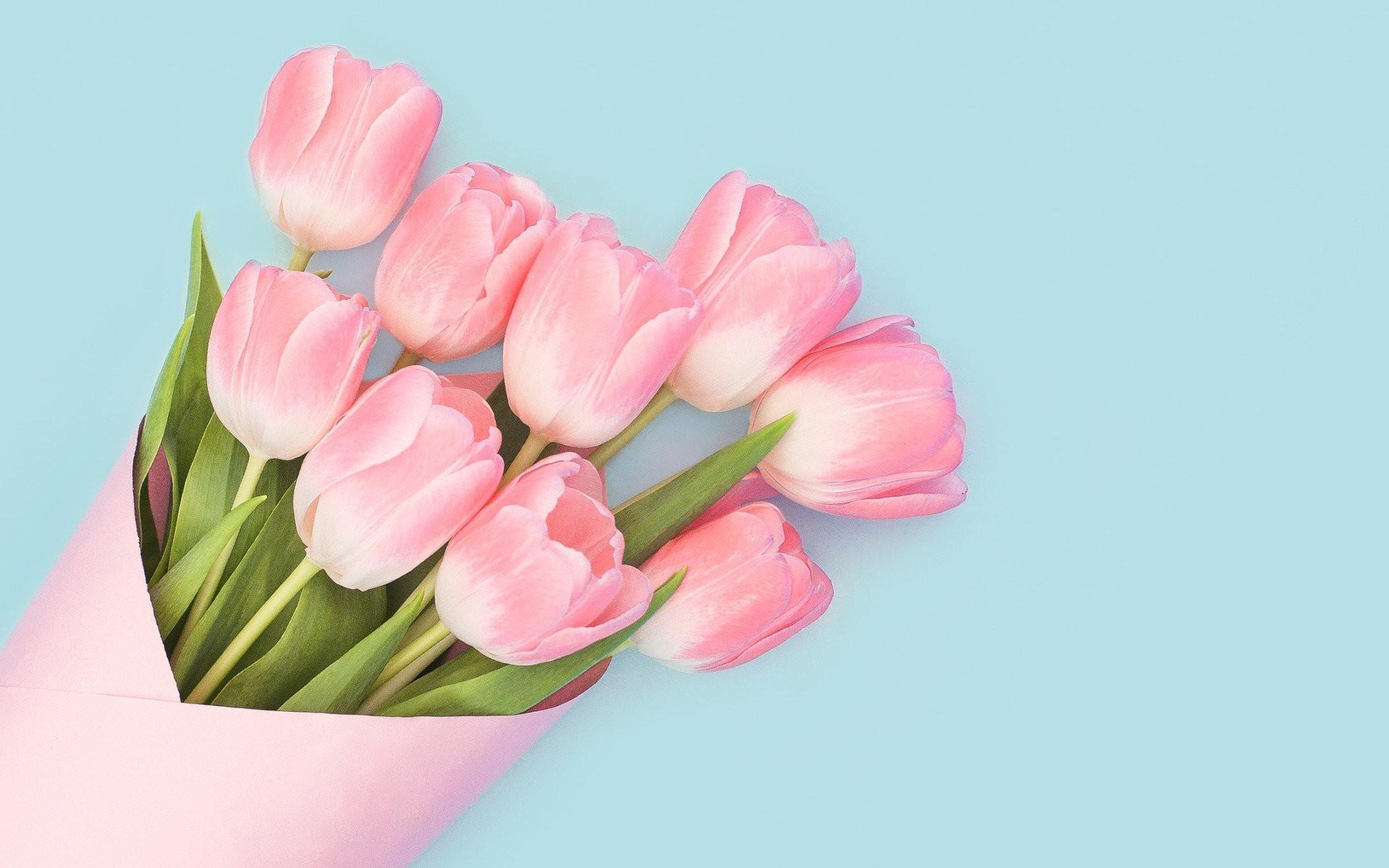tulip: (132, 41, 971, 719)
